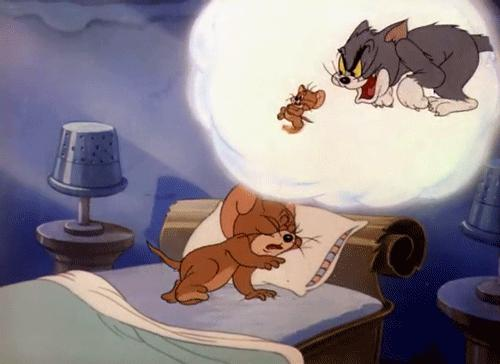jerry: (145, 182, 306, 305)
